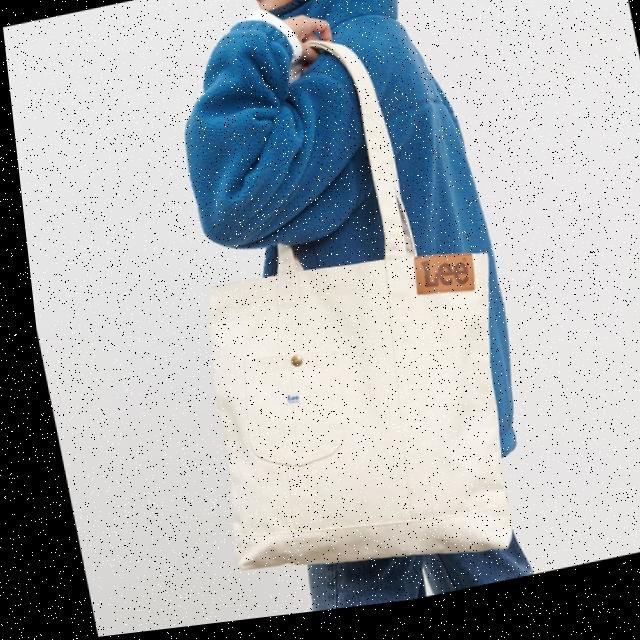ecobag: (127, 21, 539, 614)
